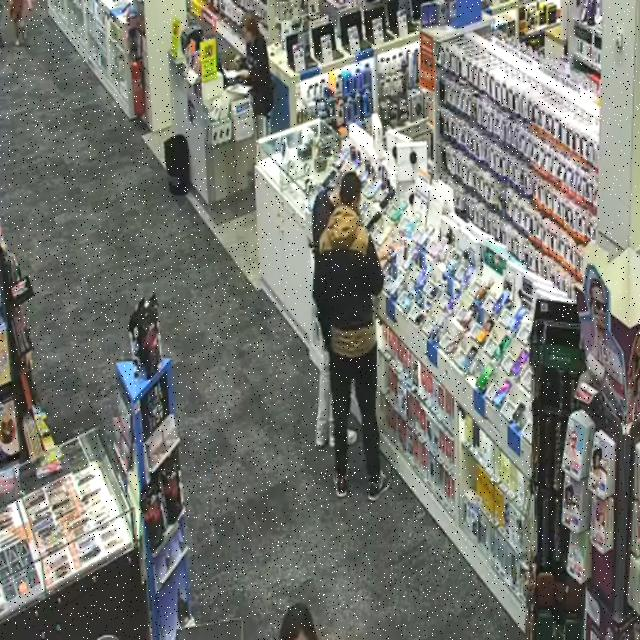hands: (377, 242, 391, 267), (238, 70, 249, 79)
person: (314, 172, 389, 501), (239, 12, 273, 117), (316, 348, 334, 447)
